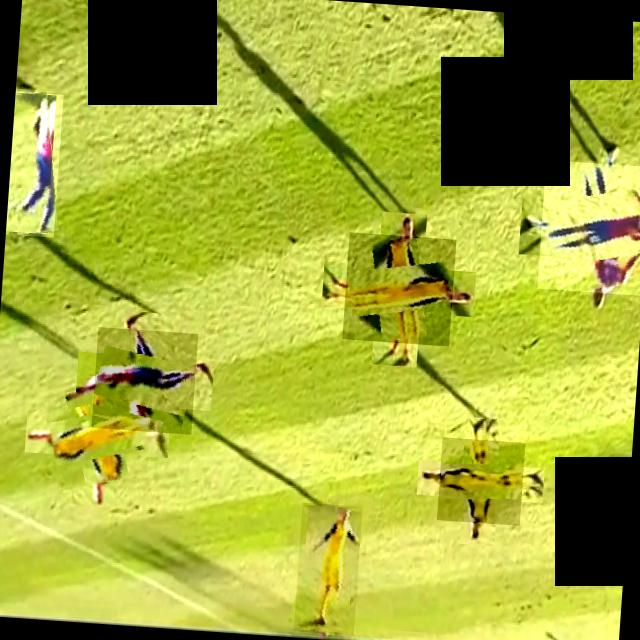soccer-player: (536, 159, 640, 295), (342, 232, 456, 346), (42, 380, 153, 490), (91, 326, 198, 434), (293, 502, 362, 635), (5, 91, 63, 237), (436, 436, 525, 526)
